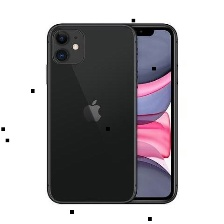phone: (41, 20, 139, 205), (93, 19, 181, 204)
